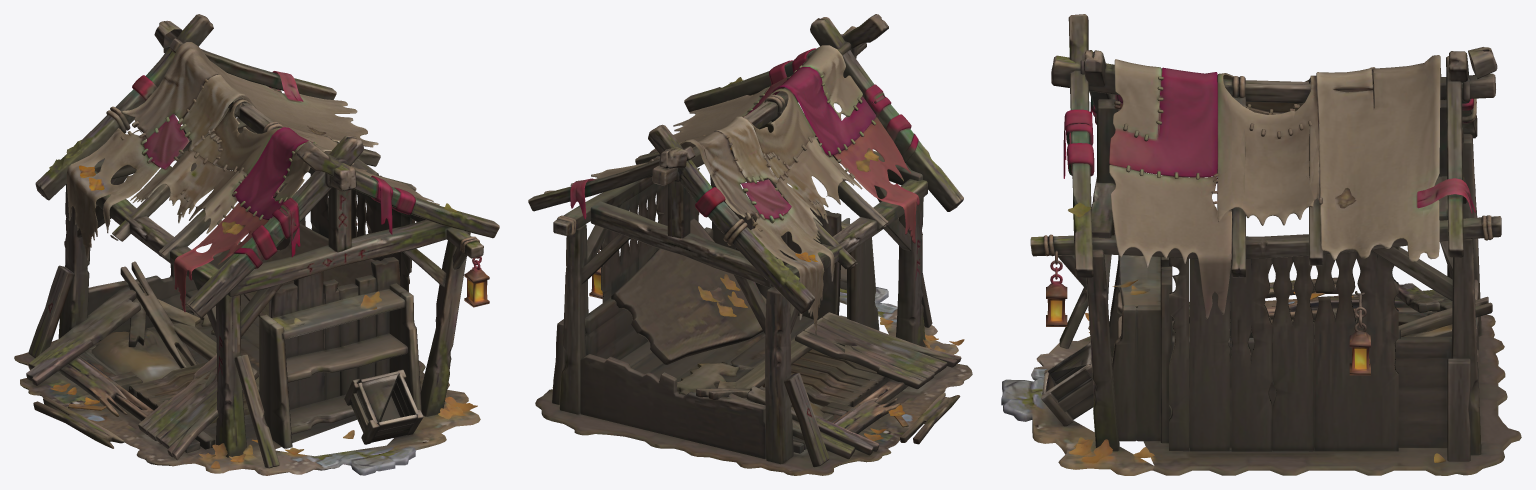
File: tent_ruin.glb
3 renders of one model, left to right at view 1: azimuth 30°, elevation 25°; view 2: azimuth 150°, elevation 25°; view 3: azimuth 270°, elevation 25°, orthographic. The views are drawn at different scales.
Visible parts, largest first — view 1: tent_ruin_0; view 2: tent_ruin_0; view 3: tent_ruin_0.
Part boxes in pixels (<box>): tent_ruin_0: <box>14,14,499,475</box>; tent_ruin_0: <box>528,14,972,475</box>; tent_ruin_0: <box>1001,14,1521,475</box>.
Size of the model in its own units: 0.9028 by 0.7681 by 0.9995.
1 material, 1 textured.
